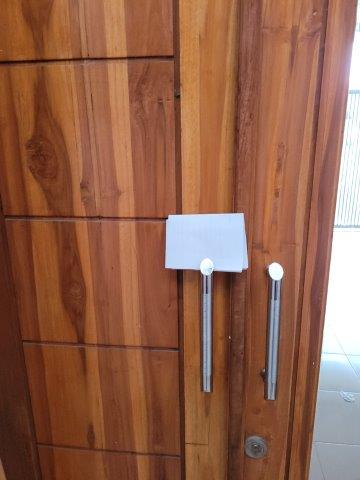kertas: (165, 213, 248, 272)
